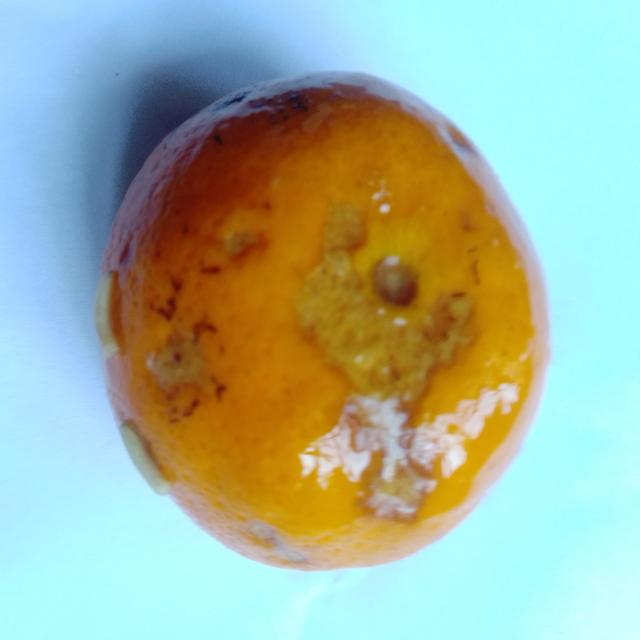orange: (97, 74, 548, 569)
